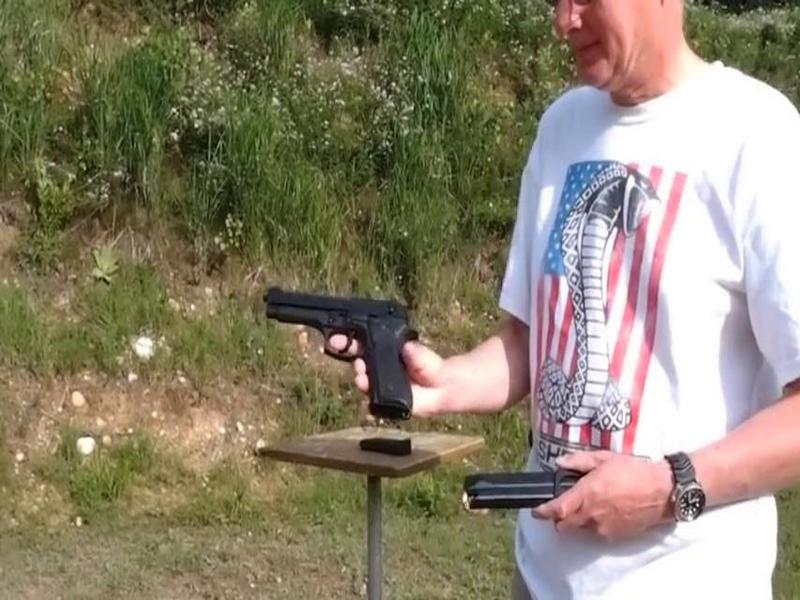Pistola: (248, 261, 447, 422)
